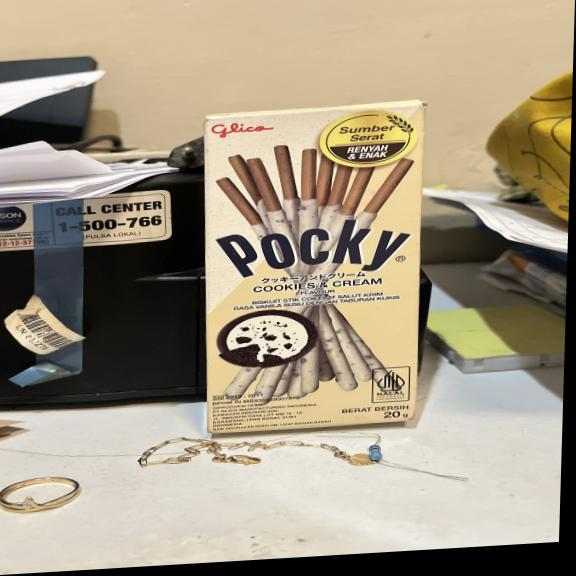Kertas: (204, 103, 425, 442)
